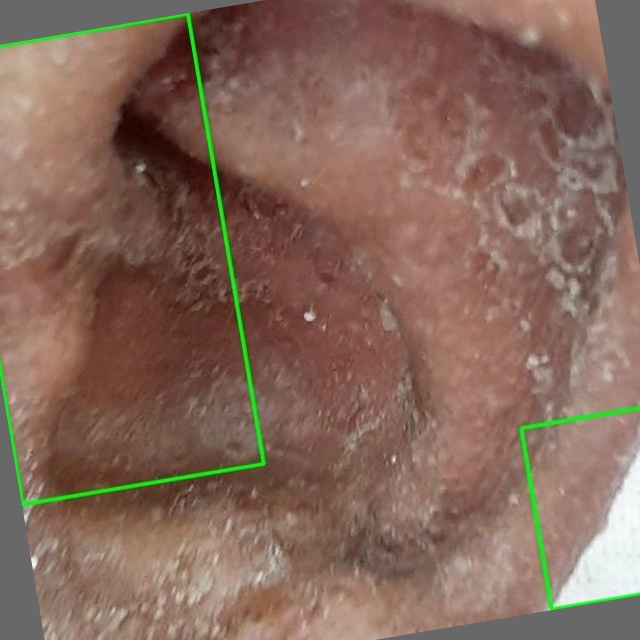Eczema: (0, 13, 263, 504), (521, 408, 639, 609)
